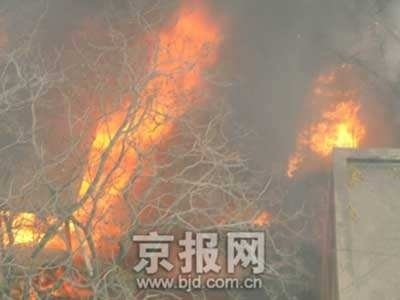fire: (24, 16, 233, 255), (288, 67, 370, 163)
